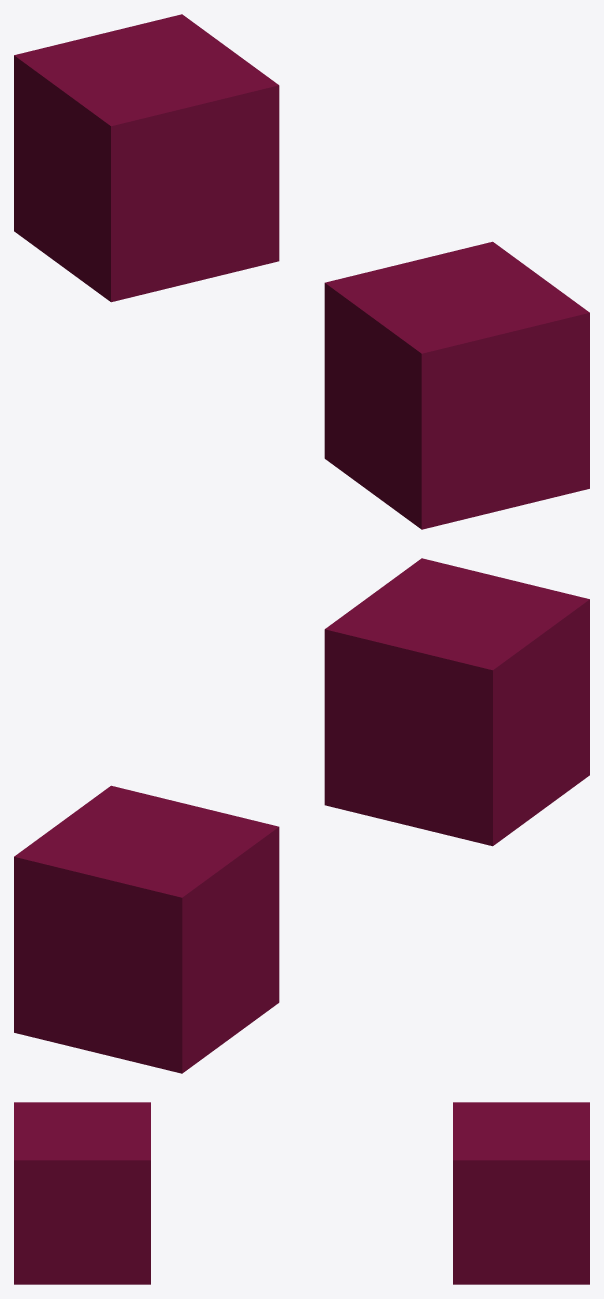
File: signalite_seer_torch_shell.obj
The picture shows the model from 3 angles, top to bottom: view 1: azimuth 30°, elevation 25°; view 2: azimuth 150°, elevation 25°; view 3: azimuth 270°, elevation 25°; orthographic projection. The views are drawn at different scales.
Visible parts, largest first — view 1: SEER_TORCH_SHELL_Cube.005; view 2: SEER_TORCH_SHELL_Cube.005; view 3: SEER_TORCH_SHELL_Cube.005.
Boxes of the visible parts, x1,y1,x2,y2 form: SEER_TORCH_SHELL_Cube.005: (14,14,589,529); SEER_TORCH_SHELL_Cube.005: (14,558,589,1073); SEER_TORCH_SHELL_Cube.005: (14,1102,589,1284).
Bounding box in the file's own units: 0.0781 × 0.0781 × 0.3281.
